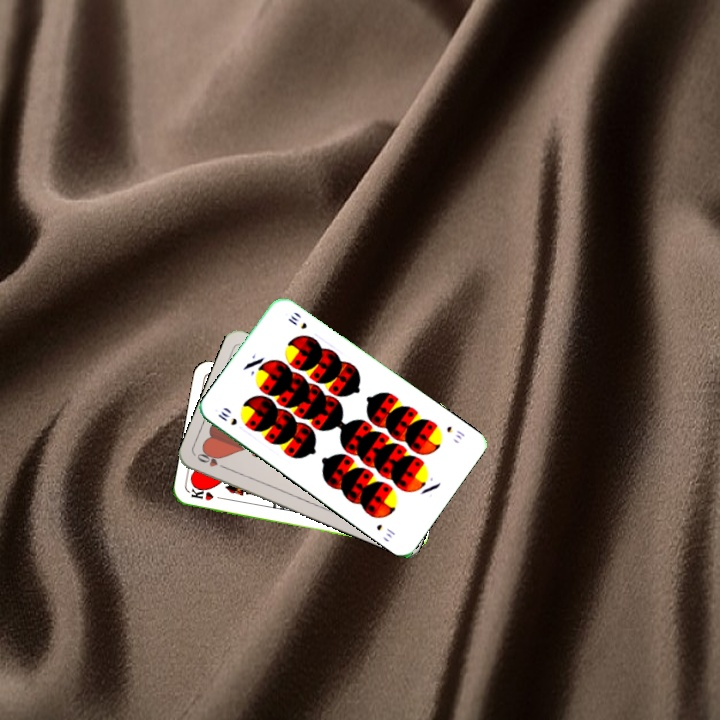HK: (187, 484, 227, 503)
HO: (193, 449, 231, 472)
S10: (214, 407, 240, 428), (442, 422, 467, 442)
